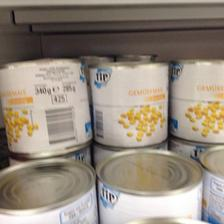Mais: (0, 57, 92, 155), (87, 60, 169, 148), (169, 58, 223, 142)
